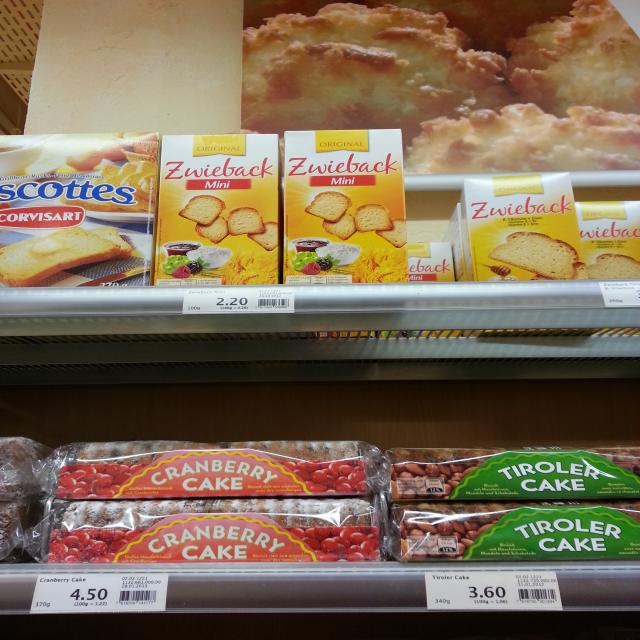Bakery: (43, 500, 383, 564), (48, 440, 386, 499), (387, 504, 640, 560), (385, 445, 640, 499)
Snacks: (0, 132, 154, 286), (158, 134, 280, 286), (285, 130, 404, 282), (462, 174, 586, 280)
